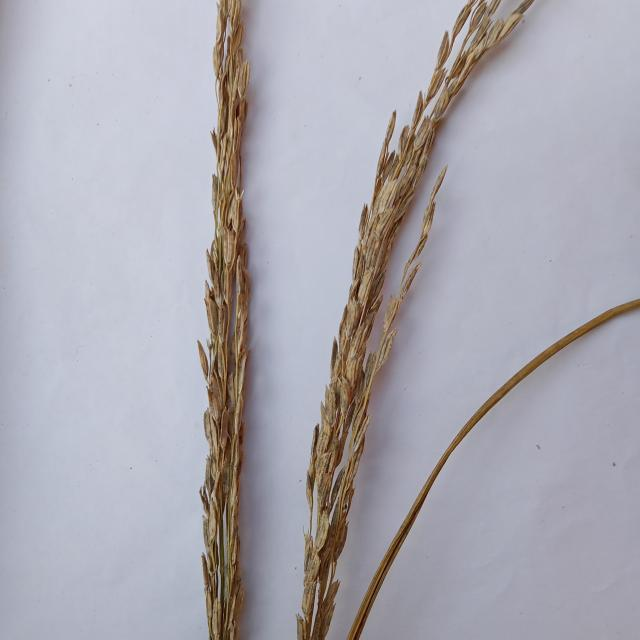Neck_Blast: (300, 3, 495, 640), (206, 12, 248, 639)
